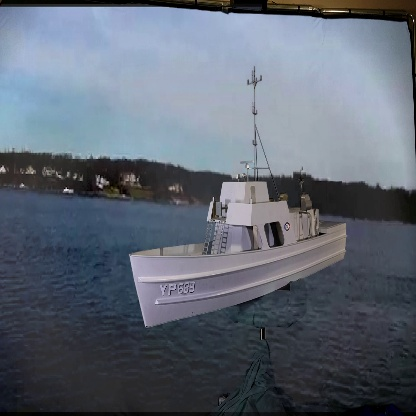YP689: (124, 65, 350, 326)
